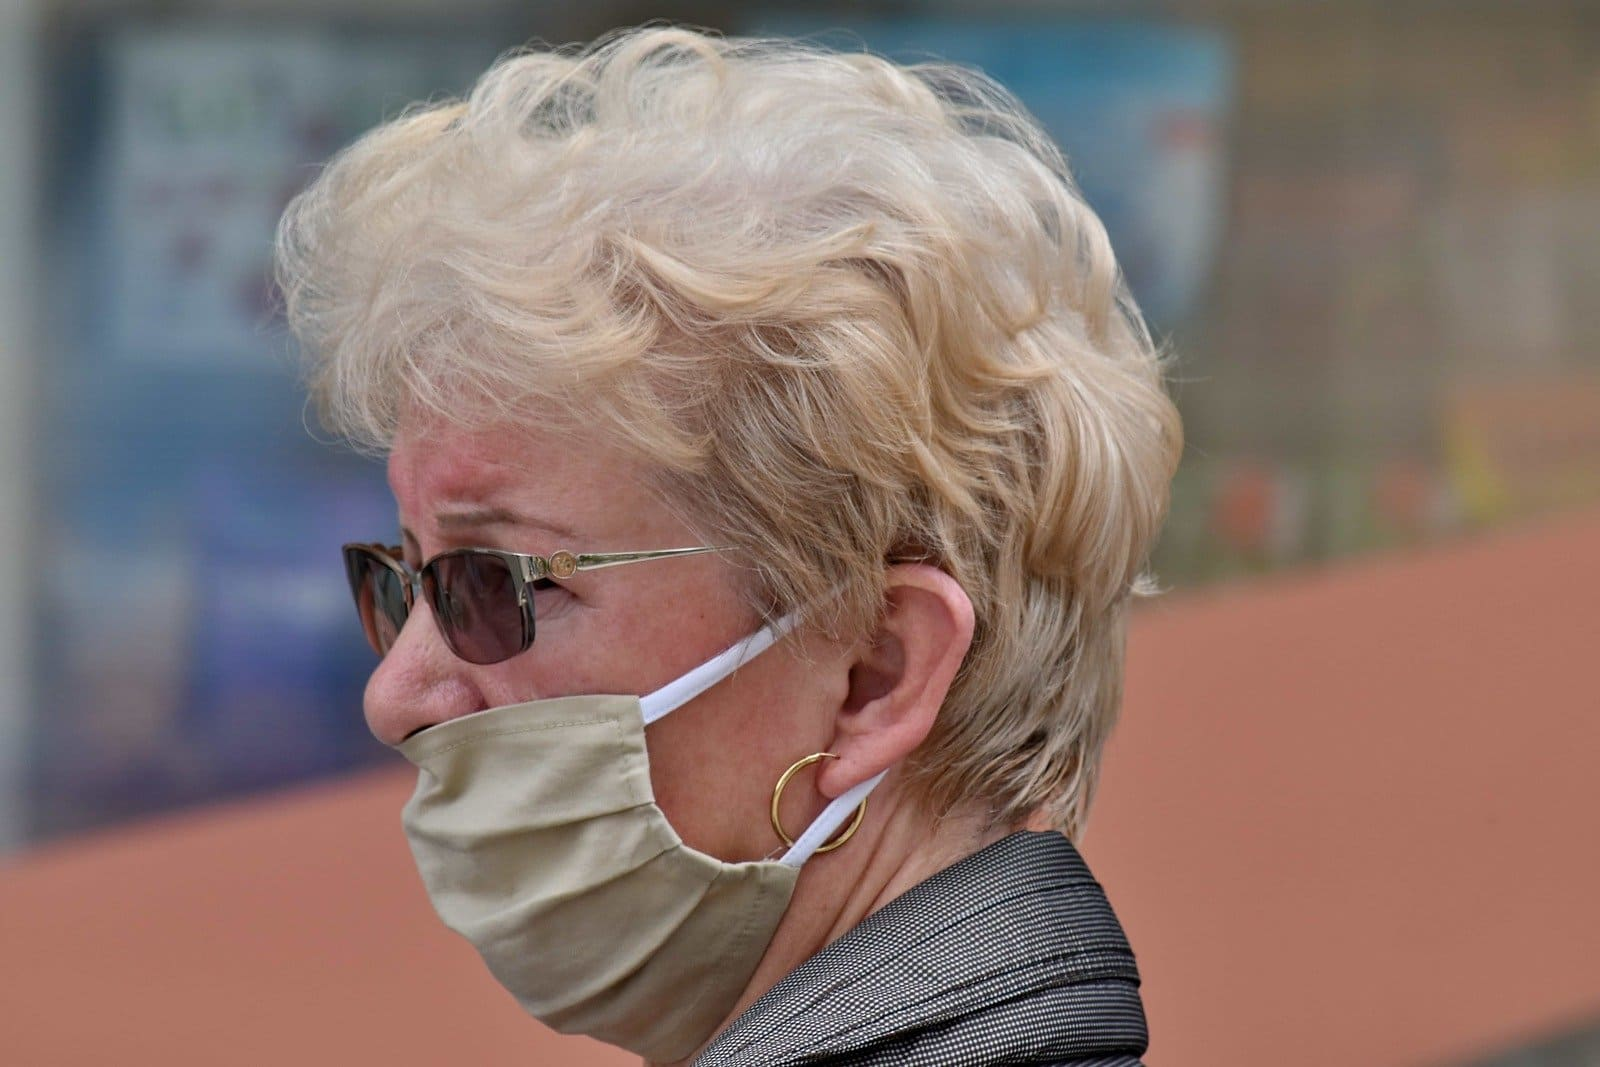with_incorrect_mask: (365, 415, 815, 1052)
